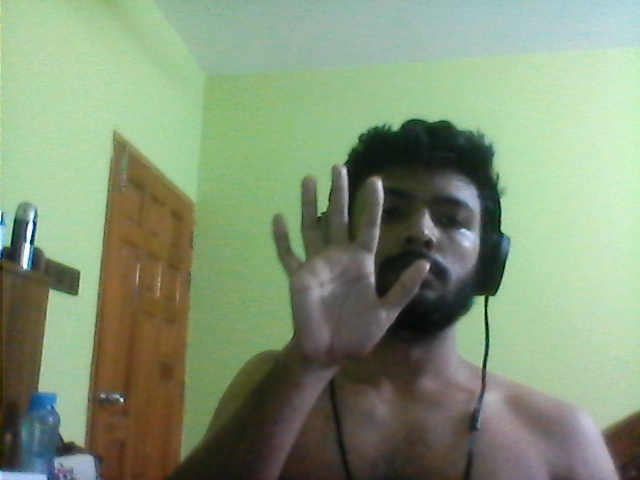Hello: (254, 151, 440, 388)
